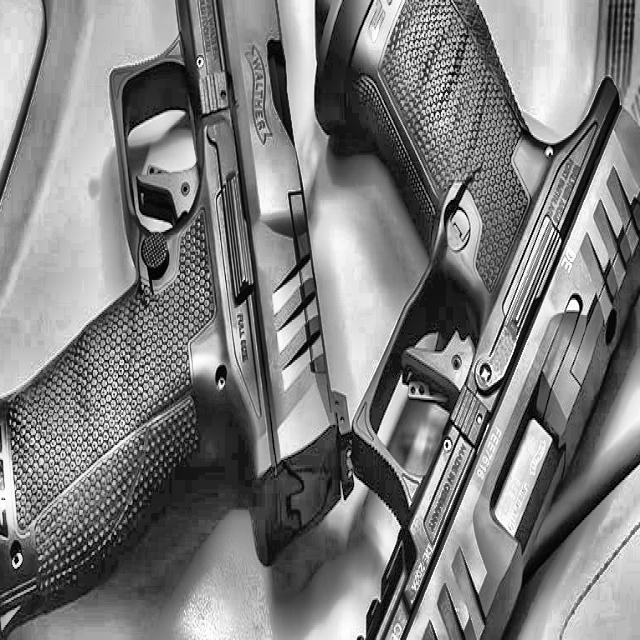Walther: (0, 0, 354, 640), (311, 0, 640, 640)
